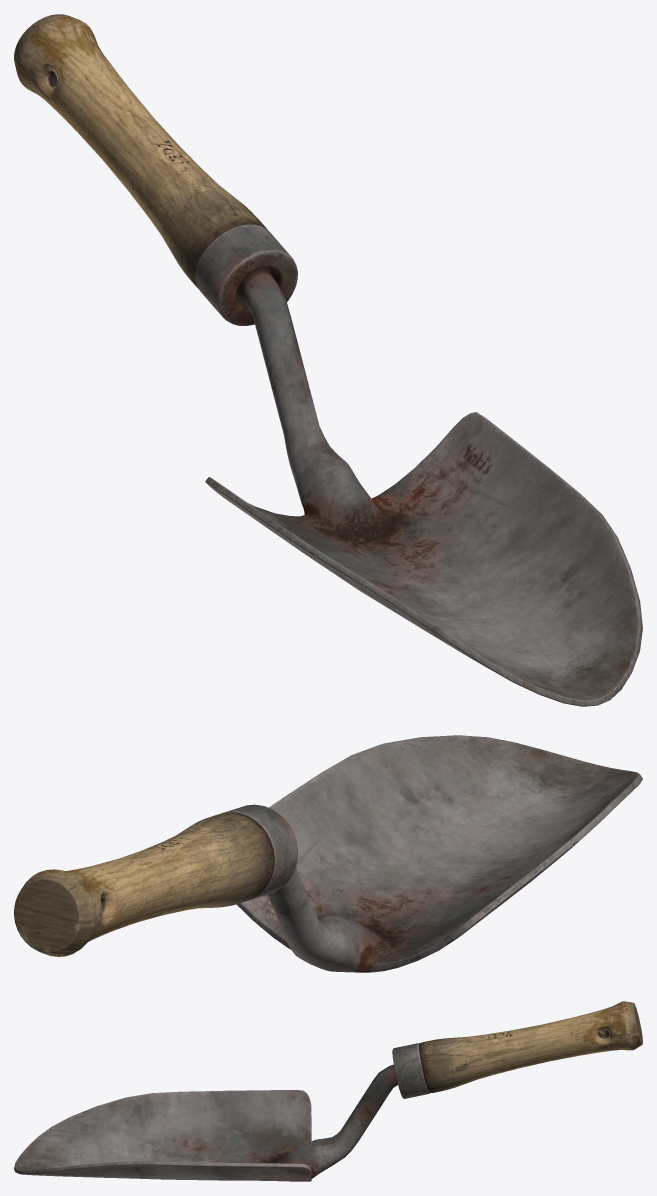
File: trowel_01_4k.obj
3 renders of one model, top to bottom at view 1: azimuth 30°, elevation 25°; view 2: azimuth 150°, elevation 25°; view 3: azimuth 270°, elevation 25°, orthographic. The views are drawn at different scales.
Parts seen in each view (by area): view 1: trowel_01; view 2: trowel_01; view 3: trowel_01.
Part boxes in pixels (<box>): trowel_01: <box>14,14,642,706</box>; trowel_01: <box>14,735,642,972</box>; trowel_01: <box>14,1001,642,1181</box>.
Size of the model in its own units: 0.0991 by 0.1026 by 0.3469.
